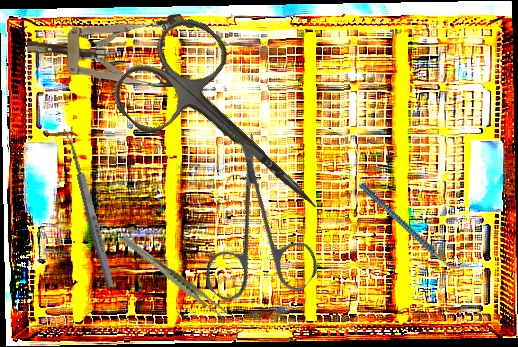Chopper: (359, 160, 466, 296)
Iris Scissors: (103, 7, 357, 254), (153, 128, 360, 336)
Speculum: (25, 9, 195, 88)
Surgical Spoon: (62, 126, 117, 289)
Tissue Forceps: (119, 218, 230, 335)
